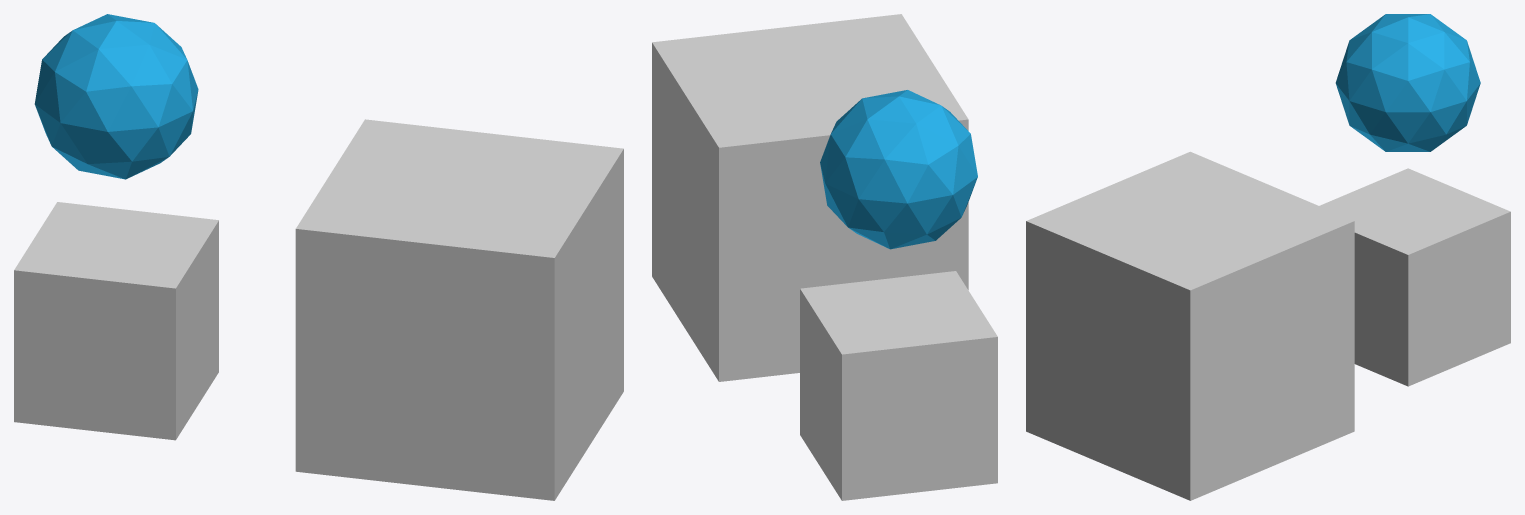
The model's file is test_scene_pixelation.glb.
3 views of the same model, side by side, from view 1: azimuth 30°, elevation 25°; view 2: azimuth 150°, elevation 25°; view 3: azimuth 270°, elevation 25° (orthographic). The views are drawn at different scales.
Parts seen in each view (by area): view 1: Cube.001, Cube, Icosphere; view 2: Cube.001, Cube, Icosphere; view 3: Cube.001, Cube, Icosphere.
Part boxes in pixels (box(x1,y1,x2,y2)): Cube.001: box(295, 119, 623, 500); Cube: box(14, 202, 218, 440); Icosphere: box(34, 14, 198, 179); Cube.001: box(652, 14, 968, 381); Cube: box(800, 271, 997, 500); Icosphere: box(820, 90, 977, 249); Cube.001: box(1026, 151, 1354, 500); Cube: box(1319, 168, 1510, 386); Icosphere: box(1335, 14, 1480, 151).
Size of what is drawn, in the model's own units: 6.68 by 4.96 by 6.68.
